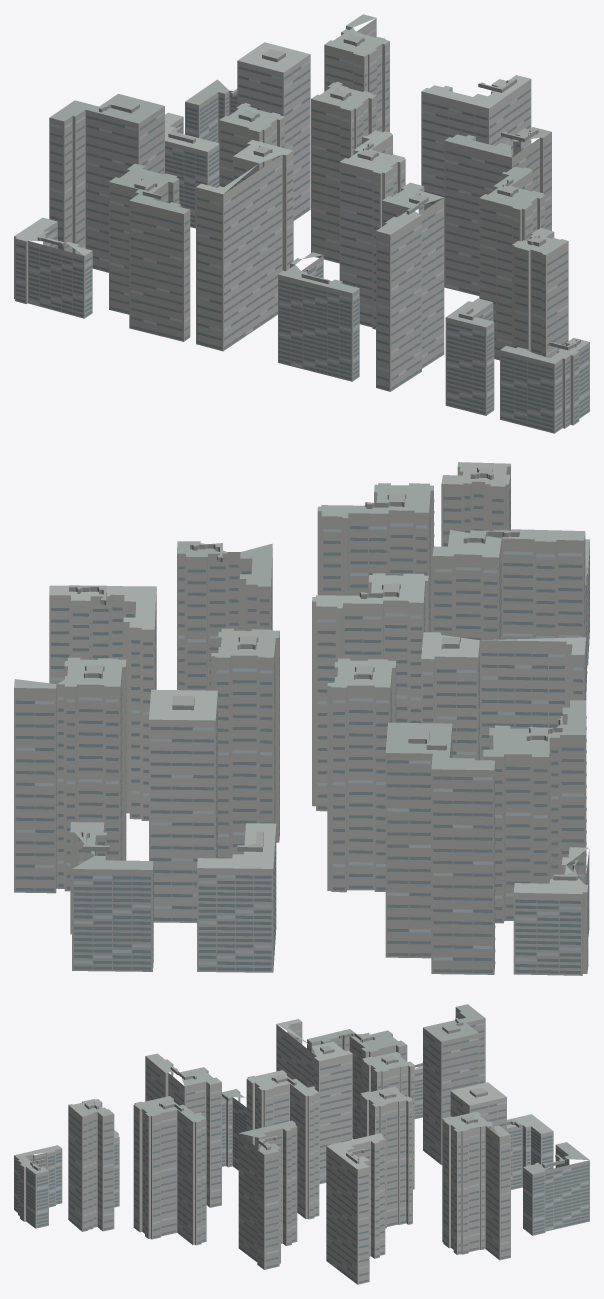
Rendered from apt-a10023043.glb.
The picture shows the model from 3 angles, top to bottom: view 1: azimuth 30°, elevation 25°; view 2: azimuth 150°, elevation 25°; view 3: azimuth 270°, elevation 25°; orthographic projection. The views are drawn at different scales.
Parts seen in each view (by area): view 1: apt-a10023043; view 2: apt-a10023043; view 3: apt-a10023043.
Boxes of the visible parts, x1=… form: apt-a10023043: x1=14, y1=14, x2=589, y2=433; apt-a10023043: x1=14, y1=462, x2=589, y2=975; apt-a10023043: x1=14, y1=1004, x2=589, y2=1284.
Size of the model in its own units: 333 by 110 by 456.
